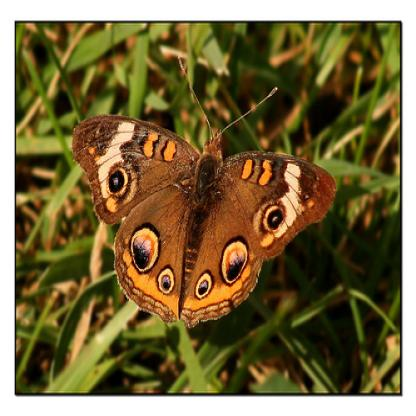Common Buckeye: (57, 65, 352, 348)
